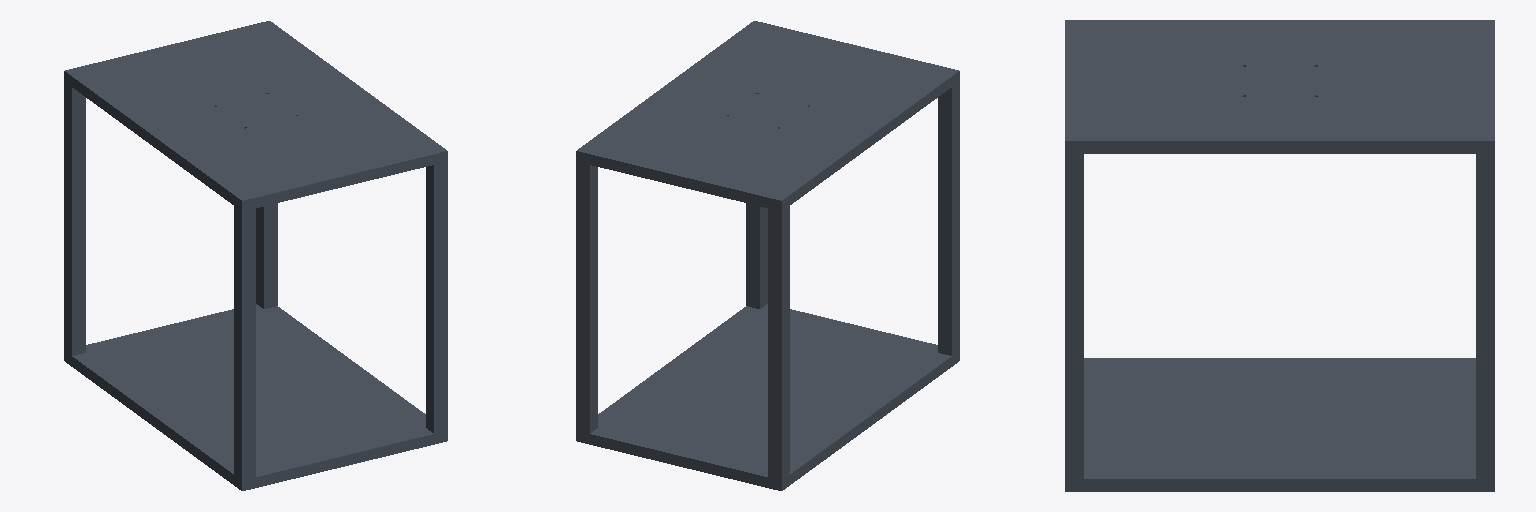
URDF robot description (a0509_stand):
<?xml version="1.0"?>
<!--
  a0509_stand.urdf
  A0509 mounting stand, converted from A0509_Stand.step.
  - visual/collision: meshes/a0509_stand.stl (metres, XY-centred, floor z=0)
  - bounding-box size: 0.6 x 0.9 x 0.81 m
  - mounting surface: z=0.81 m
  - volume: 0.0371974553 m^3
  - mass/inertia: uniform stainless steel at 7850 kg/m^3
-->
<robot name="a0509_stand">

  <material name="a0509_stand_gray">
    <color rgba="0.35 0.38 0.42 1.0"/>
  </material>

  <link name="base_link">
    <inertial>
      <origin xyz="0 0 0.404972636" rpy="0 0 0"/>
      <mass value="292.000024"/>
      <inertia
          ixx="64.6071365" ixy="0" ixz="0"
          iyy="51.0564665" iyz="0" izz="34.7291171"/>
    </inertial>

    <visual>
      <origin xyz="0 0 0" rpy="0 0 0"/>
      <geometry>
        <mesh filename="meshes/a0509_stand.stl" scale="1 1 1"/>
      </geometry>
      <material name="a0509_stand_gray"/>
    </visual>

    <collision>
      <origin xyz="0 0 0" rpy="0 0 0"/>
      <geometry>
        <mesh filename="meshes/a0509_stand.stl" scale="1 1 1"/>
      </geometry>
    </collision>
  </link>
</robot>

--- Render facts (derived) ---
Views: 3 orthographic renders of the robot side by side, from view 1: azimuth 30°, elevation 25°; view 2: azimuth 150°, elevation 25°; view 3: azimuth 270°, elevation 25°.
Robot: a0509_stand — 1 links, 0 joints (none); root link base_link; default pose: all joints at 0.
Visible links, largest first — view 1: base_link; view 2: base_link; view 3: base_link.
Link boxes in pixels (x1,y1,x2,y2): base_link: (64, 21, 447, 490); base_link: (576, 21, 959, 490); base_link: (1065, 20, 1494, 491).
Size in the robot's own frame: 0.6 by 0.9 by 0.81 metres.
Meshes: 1 distinct files referenced, 1 mesh visuals loaded (1 binary STL).
